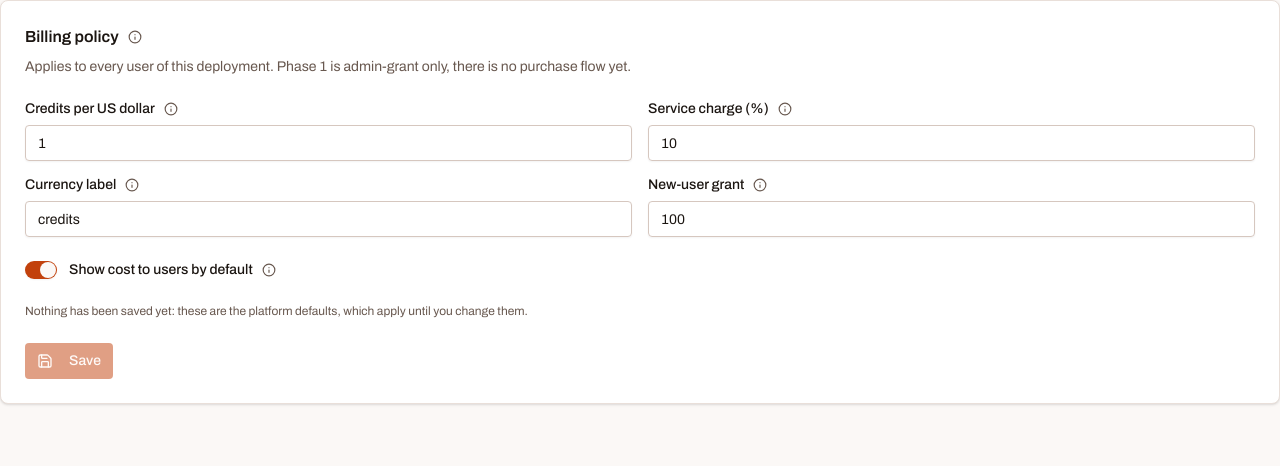
Test: BillingSettingsForm › save failure › surfaces the API error message and does not show Saved
Replace the text in the number field with id "resparkable-credits-per-usd" with "4" at (328, 143), box 25,125 -> 632,161
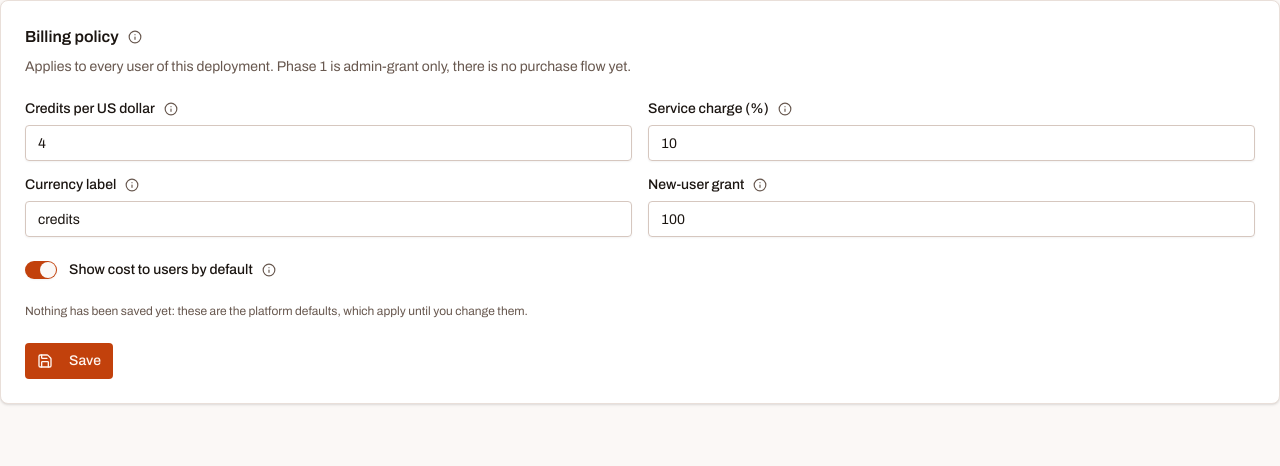
Click the button "Save" at (69, 361), box 25,343 -> 113,379
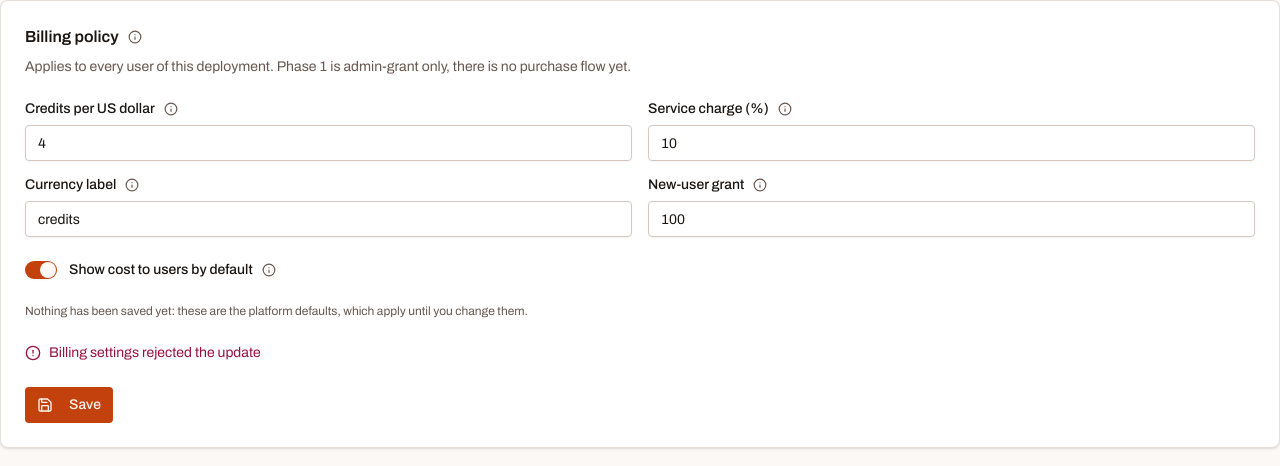
Check: the button "Save" is enabled, box 25,387 -> 113,423
Check: the message reads "Billing settings rejected the update", box 49,345 -> 261,360
